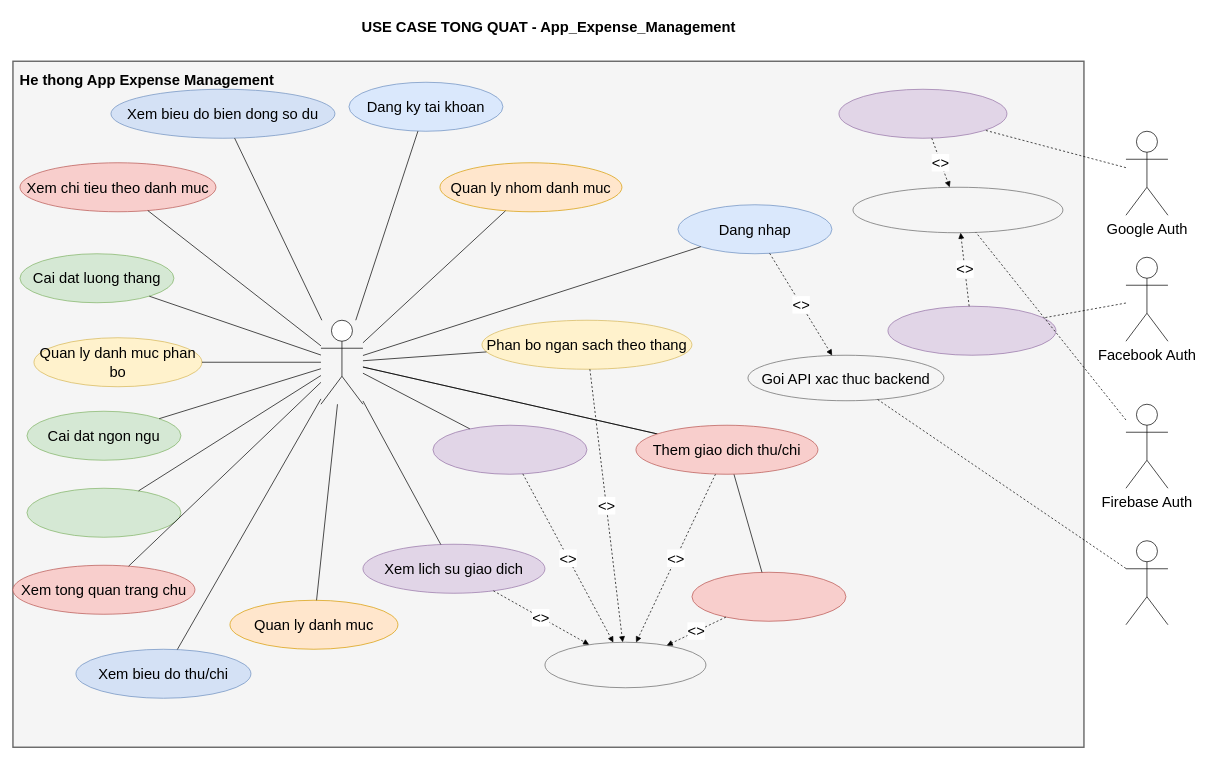
This 1208x760 diagram has some shape labels left out. The shapes that lost their labels are listed below. From the top down, each one's centre as x and y in pixels, then its label:
(x=922, y=113): Dang nhap bang Google
(x=957, y=210): Dong bo dang nhap voi Firebase
(x=971, y=330): Dang nhap bang Facebook
(x=341, y=362): Nguoi dung
(x=509, y=449): Xem thong ke
(x=103, y=512): Quan ly ho so
(x=768, y=596): Xoa giao dich
(x=1146, y=582): Backend API
(x=625, y=665): Luu/Doc du lieu Hive
